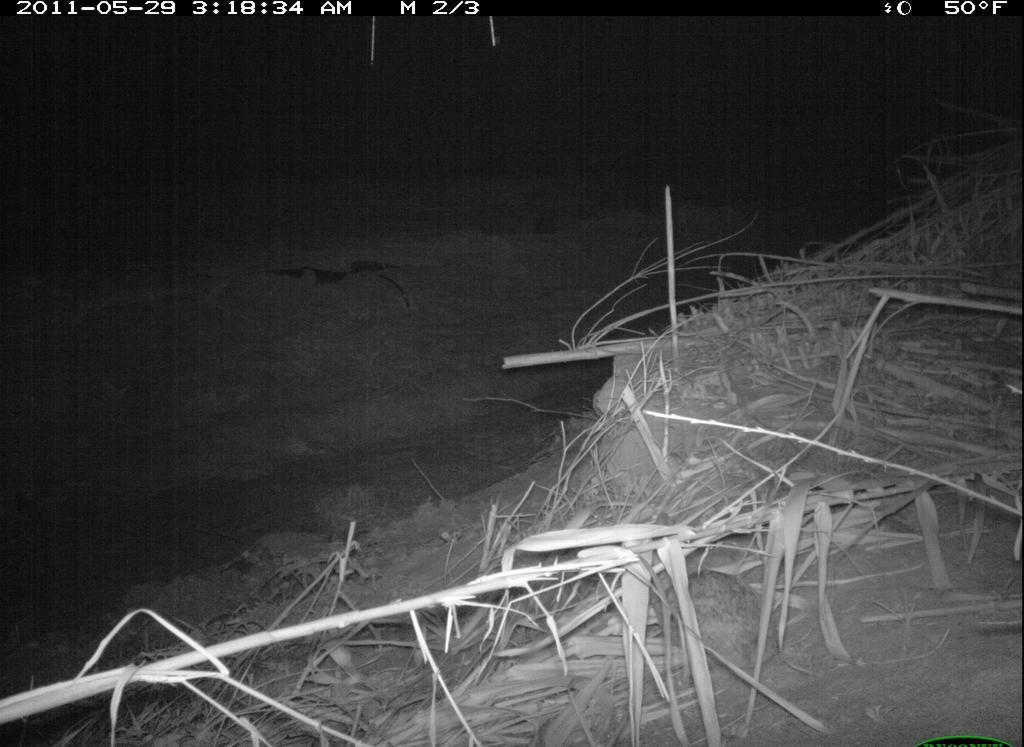rabbit: (665, 552, 844, 669)
